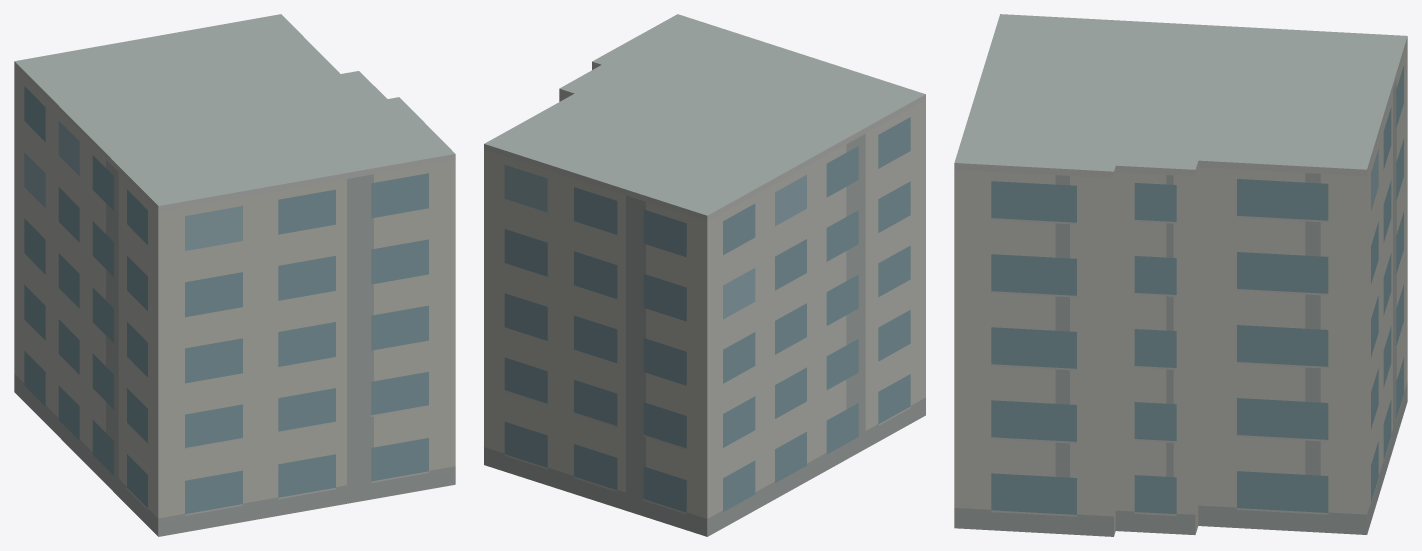
Rendered from survey-upis-32573593.glb.
3 renders of one model, left to right at view 1: azimuth 30°, elevation 25°; view 2: azimuth 150°, elevation 25°; view 3: azimuth 270°, elevation 25°, orthographic. The views are drawn at different scales.
Parts seen in each view (by area): view 1: survey-upis-32573593.tmp; view 2: survey-upis-32573593.tmp; view 3: survey-upis-32573593.tmp.
Boxes of the visible parts, x1,y1,x2,y2 form: survey-upis-32573593.tmp: (14, 14, 455, 536); survey-upis-32573593.tmp: (484, 14, 925, 536); survey-upis-32573593.tmp: (954, 14, 1407, 536).
Bounding box in the file's own units: 12.32 × 13.3 × 14.97.
